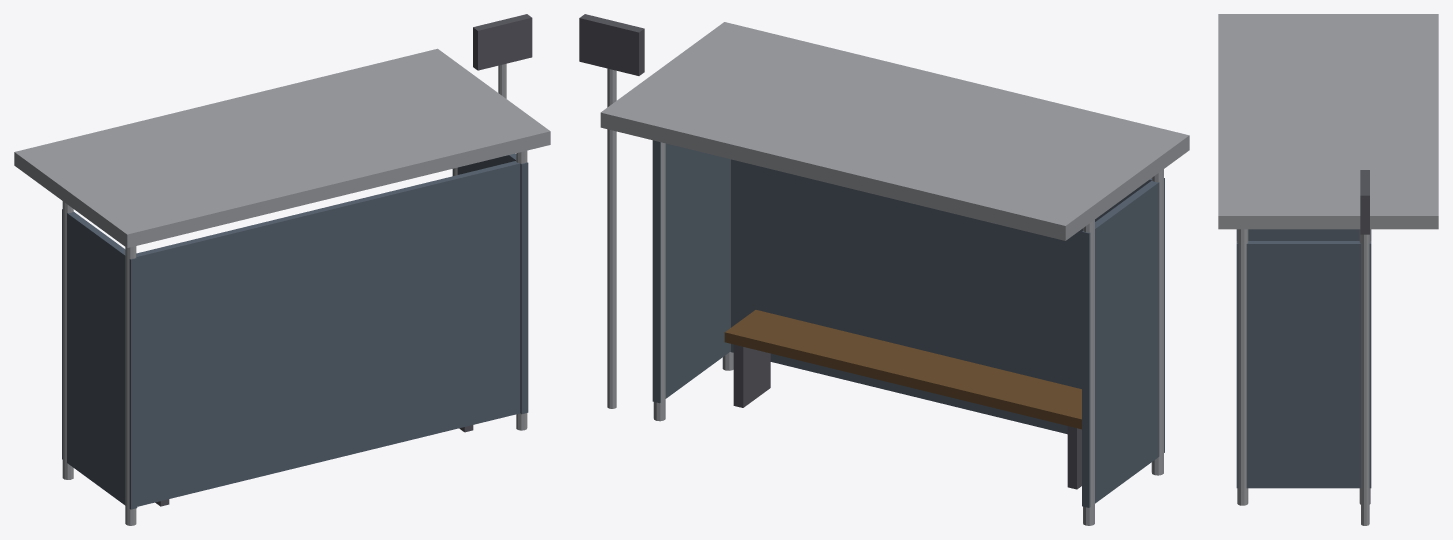
The model's file is bus-stop.glb.
3 renders of one model, left to right at view 1: azimuth 30°, elevation 25°; view 2: azimuth 150°, elevation 25°; view 3: azimuth 270°, elevation 25°, orthographic. The views are drawn at different scales.
Visible parts, largest first — view 1: Cube.001, Cube, Cube.002, Cube.003, Cube.007, Cylinder, Cylinder.001; view 2: Cube, Cube.001, Cube.002, Cube.003, Cube.004, Cube.007, Cylinder.004, Cube.006, Cylinder.001, Cylinder, Cylinder.003, Cube.005; view 3: Cube, Cube.003, Cylinder.004, Cylinder.002, Cube.002, Cube.007.
Part boxes in pixels (x1=…): Cube.001: x1=136, y1=161, x2=520, y2=506; Cube: x1=14, y1=48, x2=550, y2=247; Cube.002: x1=62, y1=209, x2=137, y2=509; Cube.003: x1=452, y1=153, x2=528, y2=414; Cube.007: x1=473, y1=14, x2=532, y2=70; Cylinder: x1=125, y1=246, x2=136, y2=525; Cylinder.001: x1=62, y1=201, x2=73, y2=479; Cube: x1=600, y1=22, x2=1189, y2=240; Cube.001: x1=730, y1=159, x2=1151, y2=434; Cube.002: x1=1082, y1=178, x2=1164, y2=507; Cube.003: x1=652, y1=140, x2=729, y2=403; Cube.004: x1=724, y1=310, x2=1081, y2=429; Cube.007: x1=579, y1=14, x2=644, y2=75; Cylinder.004: x1=607, y1=68, x2=616, y2=408; Cube.006: x1=733, y1=344, x2=770, y2=407; Cylinder.001: x1=1083, y1=220, x2=1094, y2=525; Cylinder: x1=1151, y1=169, x2=1163, y2=475; Cylinder.003: x1=653, y1=142, x2=665, y2=421; Cube.005: x1=1067, y1=426, x2=1081, y2=489; Cube: x1=1218, y1=14, x2=1438, y2=229; Cube.003: x1=1236, y1=241, x2=1371, y2=488; Cylinder.004: x1=1361, y1=234, x2=1369, y2=525; Cylinder.002: x1=1237, y1=229, x2=1248, y2=505; Cube.002: x1=1236, y1=229, x2=1371, y2=240; Cube.007: x1=1360, y1=170, x2=1369, y2=234.
Size of what is drawn, in the model's own units: 4.4 by 3.08 by 1.8.
